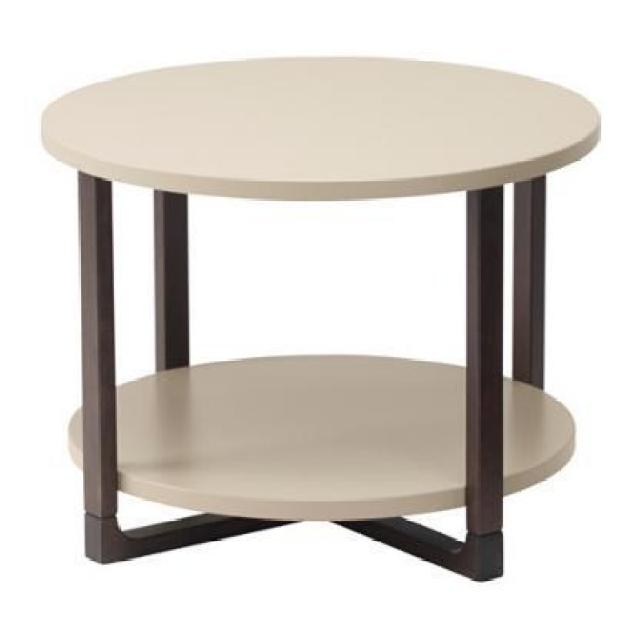tables: (38, 54, 600, 580)
